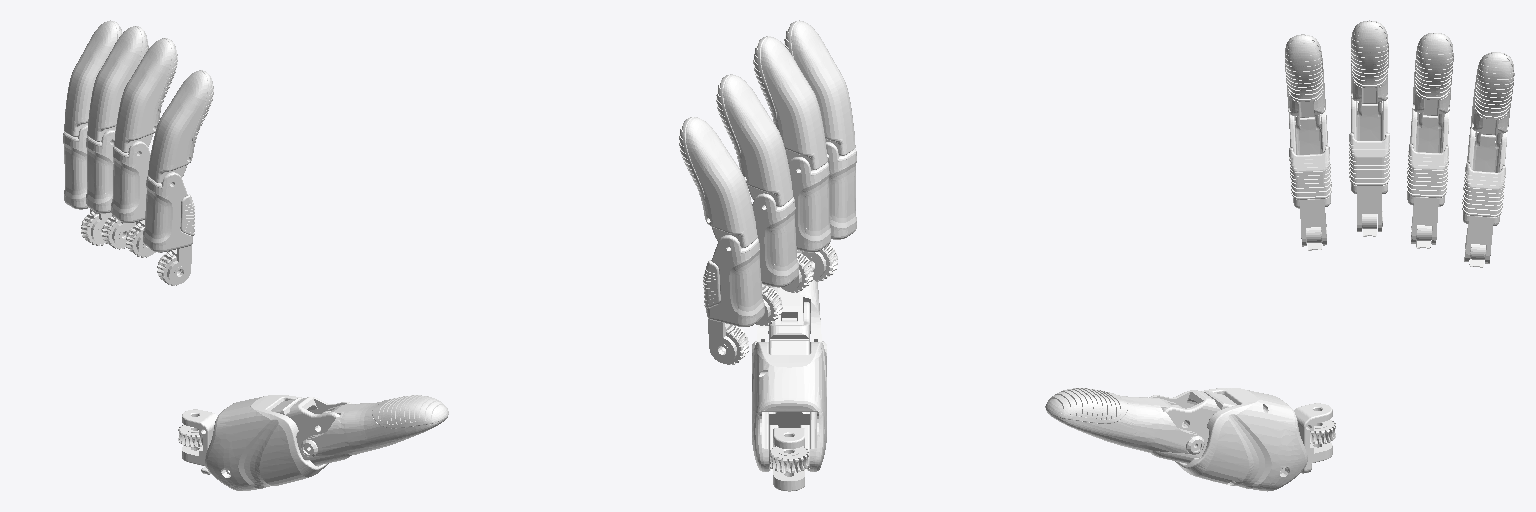
URDF robot description (linker_o6_left_v1.0_urdf):
<?xml version="1.0" encoding="utf-8"?>
<!-- This URDF was automatically created by SolidWorks to URDF Exporter! Originally created by [author] ([email redacted]) 
     Commit Version: 1.6.0-4-g7f85cfe  Build Version: 1.6.7995.38578
     For more information, please see http://wiki.ros.org/sw_urdf_exporter -->
<robot
  name="linker_o6_left_v1.0_urdf">
  <link
    name="hand_base_link">
    <inertial>
      <origin
        xyz="-0.00157788568070457 -0.00034876725935859 0.0538452219801211"
        rpy="0 0 0" />
      <mass
        value="0.0672935238166485" />
      <inertia
        ixx="5.22525212160954E-05"
        ixy="3.06955729584715E-07"
        ixz="-3.90341166950521E-07"
        iyy="3.33522349207724E-05"
        iyz="-7.76680063574627E-07"
        izz="2.28469461105385E-05" />
    </inertial>
    <visual>
      <origin
        xyz="0 0 0"
        rpy="0 0 0" />
      <geometry>
        <mesh
          filename="meshes/hand_base_link.STL" />
      </geometry>
      <material
        name="">
        <color
          rgba="1 1 1 1" />
      </material>
    </visual>
    <collision>
      <origin
        xyz="0 0 0"
        rpy="0 0 0" />
      <geometry>
        <mesh
          filename="meshes/hand_base_link.STL" />
      </geometry>
    </collision>
  </link>
  <link
    name="thumb_metacarpals_base2">
    <inertial>
      <origin
        xyz="0.00162800681276937 -0.0027668017246415 -0.00184234438641236"
        rpy="0 0 0" />
      <mass
        value="0.00138588296544333" />
      <inertia
        ixx="5.26292160685909E-08"
        ixy="-3.92888681640568E-09"
        ixz="-2.43767371295222E-09"
        iyy="4.82620491570326E-08"
        iyz="3.71869784206147E-09"
        izz="2.88550286112821E-08" />
    </inertial>
    <visual>
      <origin
        xyz="0 0 0"
        rpy="0 0 0" />
      <geometry>
        <mesh
          filename="meshes/thumb_metacarpals_base2.STL" />
      </geometry>
      <material
        name="">
        <color
          rgba="1 1 1 1" />
      </material>
    </visual>
    <collision>
      <origin
        xyz="0 0 0"
        rpy="0 0 0" />
      <geometry>
        <mesh
          filename="meshes/thumb_metacarpals_base2.STL" />
      </geometry>
    </collision>
  </link>
  <joint
    name="thumb_cmc_yaw"
    type="revolute">
    <origin
      xyz="0.011508 -0.022975 0.032794"
      rpy="0 0 0" />
    <parent
      link="hand_base_link" />
    <child
      link="thumb_metacarpals_base2" />
    <axis
      xyz="0 0 1" />
    <limit
      lower="0"
      upper="1.36"
      effort="100"
      velocity="1" />
  </joint>
  <link
    name="thumb_metacarpals">
    <inertial>
      <origin
        xyz="4.24816204999817E-05 1.74183907812875E-05 0.0228341640631254"
        rpy="0 0 0" />
      <mass
        value="0.0123381586619931" />
      <inertia
        ixx="1.10292537368909E-06"
        ixy="-5.99642232777877E-10"
        ixz="-1.14233573940545E-07"
        iyy="1.76757772551884E-06"
        iyz="-4.03963570823777E-10"
        izz="9.36347792411098E-07" />
    </inertial>
    <visual>
      <origin
        xyz="0 0 0"
        rpy="0 0 0" />
      <geometry>
        <mesh
          filename="meshes/thumb_metacarpals.STL" />
      </geometry>
      <material
        name="">
        <color
          rgba="1 1 1 1" />
      </material>
    </visual>
    <collision>
      <origin
        xyz="0 0 0"
        rpy="0 0 0" />
      <geometry>
        <mesh
          filename="meshes/thumb_metacarpals.STL" />
      </geometry>
    </collision>
  </link>
  <joint
    name="thumb_cmc_pitch"
    type="revolute">
    <origin
      xyz="0.0061649 -0.010678 -0.004891"
      rpy="0 -1.1529 2.0944" />
    <parent
      link="thumb_metacarpals_base2" />
    <child
      link="thumb_metacarpals" />
    <axis
      xyz="0 1 0" />
    <limit
      lower="0"
      upper="0.58"
      effort="100"
      velocity="1" />
  </joint>
  <link
    name="thumb_distal">
    <inertial>
      <origin
        xyz="-0.00413725702921841 -5.90704520436747E-08 0.023011401589736"
        rpy="0 0 0" />
      <mass
        value="0.00763332957284057" />
      <inertia
        ixx="1.3057487813702E-06"
        ixy="-1.19781508112714E-11"
        ixz="-7.19551697268541E-08"
        iyy="1.2248908905341E-06"
        iyz="4.55347974652679E-12"
        izz="2.77271910592615E-07" />
    </inertial>
    <visual>
      <origin
        xyz="0 0 0"
        rpy="0 0 0" />
      <geometry>
        <mesh
          filename="meshes/thumb_distal.STL" />
      </geometry>
      <material
        name="">
        <color
          rgba="1 1 1 1" />
      </material>
    </visual>
    <collision>
      <origin
        xyz="0 0 0"
        rpy="0 0 0" />
      <geometry>
        <mesh
          filename="meshes/thumb_distal.STL" />
      </geometry>
    </collision>
  </link>
  <joint
    name="thumb_ip"
    type="revolute">
    <origin
      xyz="0.0037776 0 0.045368"
      rpy="0 0 0" />
    <parent
      link="thumb_metacarpals" />
    <child
      link="thumb_distal" />
    <axis
      xyz="0 1 0" />
    <limit
      lower="0"
      upper="1.08"
      effort="100"
      velocity="1" />
    <mimic
      joint="thumb_cmc_pitch"
      multiplier="1.86"
      offset="0" />
  </joint>
  <link
    name="index_proximal">
    <inertial>
      <origin
        xyz="-0.00208656556336452 2.53838713251686E-06 0.0172734941980264"
        rpy="0 0 0" />
      <mass
        value="0.00253174651934627" />
      <inertia
        ixx="2.65988714157799E-07"
        ixy="-1.67174578825824E-11"
        ixz="-4.31047725546034E-08"
        iyy="2.72914069166233E-07"
        iyz="1.8756709532167E-10"
        izz="8.56017305636748E-08" />
    </inertial>
    <visual>
      <origin
        xyz="0 0 0"
        rpy="0 0 0" />
      <geometry>
        <mesh
          filename="meshes/index_proximal.STL" />
      </geometry>
      <material
        name="">
        <color
          rgba="1 1 1 1" />
      </material>
    </visual>
    <collision>
      <origin
        xyz="0 0 0"
        rpy="0 0 0" />
      <geometry>
        <mesh
          filename="meshes/index_proximal.STL" />
      </geometry>
    </collision>
  </link>
  <joint
    name="index_mcp_pitch"
    type="revolute">
    <origin
      xyz="0.0024758 -0.02419 0.098779"
      rpy="0.05236 0 0" />
    <parent
      link="hand_base_link" />
    <child
      link="index_proximal" />
    <axis
      xyz="0 1 0" />
    <limit
      lower="0"
      upper="1.60"
      effort="100"
      velocity="1" />
  </joint>
  <link
    name="index_distal">
    <inertial>
      <origin
        xyz="0.00658986616416549 5.13855642059191E-06 0.0194393600039178"
        rpy="0 0 0" />
      <mass
        value="0.00376951085886838" />
      <inertia
        ixx="3.22347106085043E-07"
        ixy="1.3801788663582E-11"
        ixz="1.14352857317951E-07"
        iyy="3.65328133721509E-07"
        iyz="-2.11505011705634E-10"
        izz="1.24287996386442E-07" />
    </inertial>
    <visual>
      <origin
        xyz="0 0 0"
        rpy="0 0 0" />
      <geometry>
        <mesh
          filename="meshes/index_distal.STL" />
      </geometry>
      <material
        name="">
        <color
          rgba="1 1 1 1" />
      </material>
    </visual>
    <collision>
      <origin
        xyz="0 0 0"
        rpy="0 0 0" />
      <geometry>
        <mesh
          filename="meshes/index_distal.STL" />
      </geometry>
    </collision>
  </link>
  <joint
    name="index_dip"
    type="revolute">
    <origin
      xyz="-0.0052516 0 0.036625"
      rpy="0 0 0" />
    <parent
      link="index_proximal" />
    <child
      link="index_distal" />
    <axis
      xyz="0 1 0" />
    <limit
      lower="0"
      upper="1.43"
      effort="100"
      velocity="1" />
    <mimic
      joint="index_mcp_pitch"
      multiplier="0.89"
      offset="0" />
  </joint>
  <link
    name="middle_proximal">
    <inertial>
      <origin
        xyz="-0.00208660654138235 2.56918180119303E-06 0.0172735011723351"
        rpy="0 0 0" />
      <mass
        value="0.00253177375206983" />
      <inertia
        ixx="2.65989021304483E-07"
        ixy="-1.69816046635662E-11"
        ixz="-4.31046683215273E-08"
        iyy="2.72914402745606E-07"
        iyz="1.87484652324395E-10"
        izz="8.5602213431865E-08" />
    </inertial>
    <visual>
      <origin
        xyz="0 0 0"
        rpy="0 0 0" />
      <geometry>
        <mesh
          filename="meshes/middle_proximal.STL" />
      </geometry>
      <material
        name="">
        <color
          rgba="1 1 1 1" />
      </material>
    </visual>
    <collision>
      <origin
        xyz="0 0 0"
        rpy="0 0 0" />
      <geometry>
        <mesh
          filename="meshes/middle_proximal.STL" />
      </geometry>
    </collision>
  </link>
  <joint
    name="middle_mcp_pitch"
    type="revolute">
    <origin
      xyz="0.00052576 -0.00634 0.1027"
      rpy="0 0 0" />
    <parent
      link="hand_base_link" />
    <child
      link="middle_proximal" />
    <axis
      xyz="0 1 0" />
    <limit
      lower="0"
      upper="1.60"
      effort="100"
      velocity="1" />
  </joint>
  <link
    name="middle_distal">
    <inertial>
      <origin
        xyz="0.00658986516319194 5.10862924271716E-06 0.0194393315699782"
        rpy="0 0 0" />
      <mass
        value="0.00376952789210256" />
      <inertia
        ixx="3.22348591068053E-07"
        ixy="1.37122394856588E-11"
        ixz="1.1435291391668E-07"
        iyy="3.65329535087755E-07"
        iyz="-2.10453810291991E-10"
        izz="1.24288425862546E-07" />
    </inertial>
    <visual>
      <origin
        xyz="0 0 0"
        rpy="0 0 0" />
      <geometry>
        <mesh
          filename="meshes/middle_distal.STL" />
      </geometry>
      <material
        name="">
        <color
          rgba="1 1 1 1" />
      </material>
    </visual>
    <collision>
      <origin
        xyz="0 0 0"
        rpy="0 0 0" />
      <geometry>
        <mesh
          filename="meshes/middle_distal.STL" />
      </geometry>
    </collision>
  </link>
  <joint
    name="middle_dip"
    type="revolute">
    <origin
      xyz="-0.0052516 0 0.036625"
      rpy="0 0 0" />
    <parent
      link="middle_proximal" />
    <child
      link="middle_distal" />
    <axis
      xyz="0 1 0" />
    <limit
      lower="0"
      upper="1.43"
      effort="100"
      velocity="1" />
    <mimic
      joint="middle_mcp_pitch"
      multiplier="0.89"
      offset="0" />
  </joint>
  <link
    name="ring_proximal">
    <inertial>
      <origin
        xyz="-0.00208667931345812 2.63000419462034E-06 0.0172734926448377"
        rpy="0 0 0" />
      <mass
        value="0.00253182223645066" />
      <inertia
        ixx="2.65989756076584E-07"
        ixy="-1.74912952703656E-11"
        ixz="-4.31043325594253E-08"
        iyy="2.7291510093393E-07"
        iyz="1.87158326740895E-10"
        izz="8.56031522765909E-08" />
    </inertial>
    <visual>
      <origin
        xyz="0 0 0"
        rpy="0 0 0" />
      <geometry>
        <mesh
          filename="meshes/ring_proximal.STL" />
      </geometry>
      <material
        name="">
        <color
          rgba="1 1 1 1" />
      </material>
    </visual>
    <collision>
      <origin
        xyz="0 0 0"
        rpy="0 0 0" />
      <geometry>
        <mesh
          filename="meshes/ring_proximal.STL" />
      </geometry>
    </collision>
  </link>
  <joint
    name="ring_mcp_pitch"
    type="revolute">
    <origin
      xyz="0.0010258 0.011135 0.098767"
      rpy="-0.05236 0 0" />
    <parent
      link="hand_base_link" />
    <child
      link="ring_proximal" />
    <axis
      xyz="0 1 0" />
    <limit
      lower="0"
      upper="1.60"
      effort="100"
      velocity="1" />
  </joint>
  <link
    name="ring_distal">
    <inertial>
      <origin
        xyz="0.00658986648895491 5.05883528165163E-06 0.019439397215532"
        rpy="0 0 0" />
      <mass
        value="0.00376949588316609" />
      <inertia
        ixx="3.2234524157181E-07"
        ixy="1.35766976056011E-11"
        ixz="1.14353011012842E-07"
        iyy="3.65326570102147E-07"
        iyz="-2.08672149138738E-10"
        izz="1.24287770218135E-07" />
    </inertial>
    <visual>
      <origin
        xyz="0 0 0"
        rpy="0 0 0" />
      <geometry>
        <mesh
          filename="meshes/ring_distal.STL" />
      </geometry>
      <material
        name="">
        <color
          rgba="1 1 1 1" />
      </material>
    </visual>
    <collision>
      <origin
        xyz="0 0 0"
        rpy="0 0 0" />
      <geometry>
        <mesh
          filename="meshes/ring_distal.STL" />
      </geometry>
    </collision>
  </link>
  <joint
    name="ring_dip"
    type="revolute">
    <origin
      xyz="-0.0052516 0 0.036625"
      rpy="0 0 0" />
    <parent
      link="ring_proximal" />
    <child
      link="ring_distal" />
    <axis
      xyz="0 1 0" />
    <limit
      lower="0"
      upper="1.43"
      effort="100"
      velocity="1" />
    <mimic
      joint="ring_mcp_pitch"
      multiplier="0.89"
      offset="0" />
  </joint>
  <link
    name="pinky_proximal">
    <inertial>
      <origin
        xyz="-0.00208673599799501 2.68062251165824E-06 0.0172734848131236"
        rpy="0 0 0" />
      <mass
        value="0.00253185993162408" />
      <inertia
        ixx="2.6599033687183E-07"
        ixy="-1.79030790016555E-11"
        ixz="-4.31040829565781E-08"
        iyy="2.72915617381577E-07"
        iyz="1.86906787420486E-10"
        izz="8.56039175034871E-08" />
    </inertial>
    <visual>
      <origin
        xyz="0 0 0"
        rpy="0 0 0" />
      <geometry>
        <mesh
          filename="meshes/pinky_proximal.STL" />
      </geometry>
      <material
        name="">
        <color
          rgba="1 1 1 1" />
      </material>
    </visual>
    <collision>
      <origin
        xyz="0 0 0"
        rpy="0 0 0" />
      <geometry>
        <mesh
          filename="meshes/pinky_proximal.STL" />
      </geometry>
    </collision>
  </link>
  <joint
    name="pinky_mcp_pitch"
    type="revolute">
    <origin
      xyz="0.0024758 0.028372 0.092741"
      rpy="-0.087266 0 0" />
    <parent
      link="hand_base_link" />
    <child
      link="pinky_proximal" />
    <axis
      xyz="0 1 0" />
    <limit
      lower="0"
      upper="1.60"
      effort="100"
      velocity="1" />
    
  </joint>
  <link
    name="pinky_distal">
    <inertial>
      <origin
        xyz="0.00658987588903027 5.03087534178825E-06 0.0194394491065091"
        rpy="0 0 0" />
      <mass
        value="0.00376948071276134" />
      <inertia
        ixx="3.22343583730488E-07"
        ixy="1.35768173270357E-11"
        ixz="1.14353289593012E-07"
        iyy="3.65325180884183E-07"
        iyz="-2.0744198062439E-10"
        izz="1.24287567374229E-07" />
    </inertial>
    <visual>
      <origin
        xyz="0 0 0"
        rpy="0 0 0" />
      <geometry>
        <mesh
          filename="meshes/pinky_distal.STL" />
      </geometry>
      <material
        name="">
        <color
          rgba="1 1 1 1" />
      </material>
    </visual>
    <collision>
      <origin
        xyz="0 0 0"
        rpy="0 0 0" />
      <geometry>
        <mesh
          filename="meshes/pinky_distal.STL" />
      </geometry>
    </collision>
  </link>
  <joint
    name="pinky_dip"
    type="revolute">
    <origin
      xyz="-0.0052516 0 0.036625"
      rpy="0 0 0" />
    <parent
      link="pinky_proximal" />
    <child
      link="pinky_distal" />
    <axis
      xyz="0 1 0" />
    <limit
      lower="0"
      upper="1.43"
      effort="100"
      velocity="1" />
    <mimic
      joint="pinky_mcp_pitch"
      multiplier="0.89"
      offset="0" />
  </joint>
</robot>

--- Facts derived from the render (not from the file) ---
Views: 3 orthographic renders of the robot side by side, from view 1: azimuth 30°, elevation 25°; view 2: azimuth 150°, elevation 25°; view 3: azimuth 270°, elevation 25°.
Model linker_o6_left_v1.0_urdf with 12 links and 11 joints (11 revolute), rooted at hand_base_link, posed all joints at 0.
Links seen in each view (by area): view 1: thumb_metacarpals, thumb_distal, index_proximal, middle_distal, index_distal, ring_distal, middle_proximal, pinky_distal, ring_proximal, pinky_proximal, thumb_metacarpals_base2; view 2: thumb_metacarpals, pinky_proximal, pinky_distal, ring_distal, middle_distal, index_distal, ring_proximal, middle_proximal, index_proximal, thumb_metacarpals_base2, thumb_distal; view 3: thumb_metacarpals, thumb_distal, pinky_proximal, ring_proximal, index_proximal, middle_proximal, pinky_distal, index_distal, ring_distal, middle_distal, thumb_metacarpals_base2.
Boxes of the visible links, x1,y1,x2,y2 form: thumb_metacarpals: (205, 395, 351, 490); thumb_distal: (301, 395, 448, 456); index_proximal: (143, 172, 194, 285); middle_distal: (114, 38, 177, 153); index_distal: (148, 70, 213, 184); ring_distal: (87, 26, 148, 142); middle_proximal: (111, 141, 155, 257); pinky_distal: (64, 20, 122, 137); ring_proximal: (86, 130, 135, 249); pinky_proximal: (63, 125, 111, 245); thumb_metacarpals_base2: (178, 409, 217, 474); thumb_metacarpals: (752, 302, 826, 471); pinky_proximal: (703, 235, 764, 364); pinky_distal: (679, 117, 757, 247); ring_distal: (716, 74, 792, 206); middle_distal: (753, 36, 827, 170); index_distal: (784, 20, 855, 155); ring_proximal: (752, 193, 798, 325); middle_proximal: (781, 157, 830, 292); index_proximal: (802, 142, 856, 281); thumb_metacarpals_base2: (770, 428, 808, 491); thumb_distal: (752, 280, 826, 357); thumb_metacarpals: (1149, 388, 1307, 491); thumb_distal: (1045, 388, 1204, 454); pinky_proximal: (1462, 127, 1507, 267); ring_proximal: (1407, 108, 1448, 248); index_proximal: (1289, 110, 1331, 250); middle_proximal: (1349, 98, 1389, 236); pinky_distal: (1471, 52, 1514, 148); index_distal: (1285, 34, 1325, 130); ring_distal: (1413, 33, 1453, 128); middle_distal: (1351, 20, 1388, 116); thumb_metacarpals_base2: (1294, 403, 1335, 473).
Size in the robot's own frame: 0.0758 by 0.1505 by 0.1584 metres.
Meshes: 12 distinct files referenced, 11 mesh visuals loaded (11 binary STL); not drawn: 1 (reference not matched to a file when rendering).